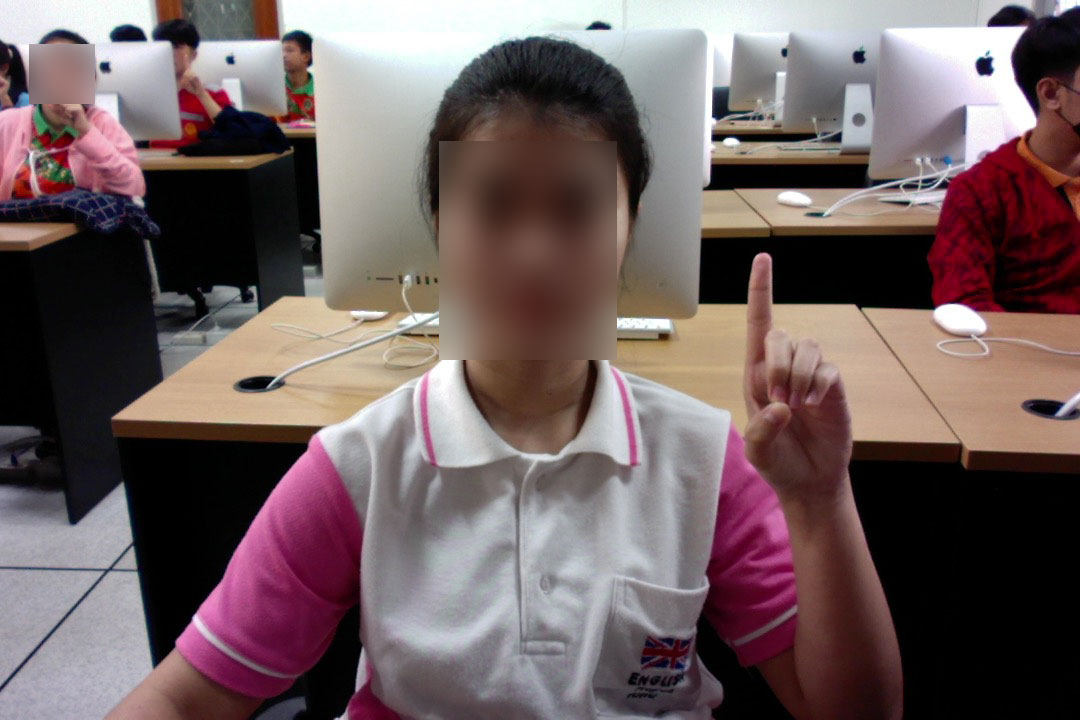dor: (740, 247, 857, 518)
